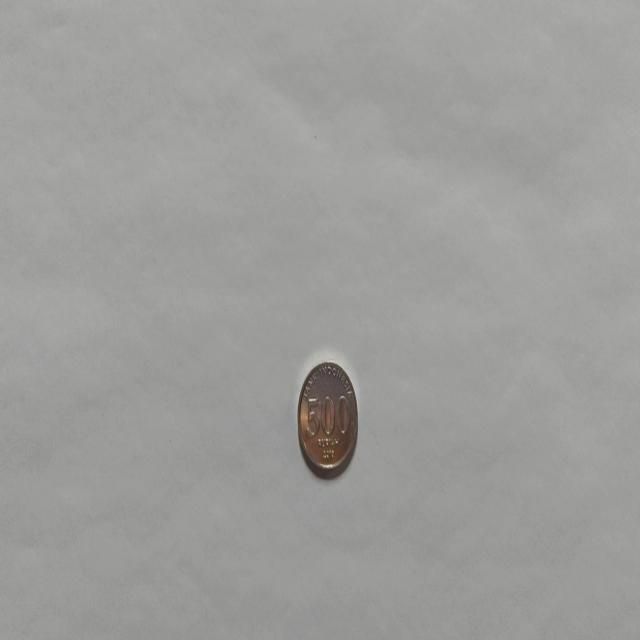lima ratus rupiah: (296, 359, 358, 478)
